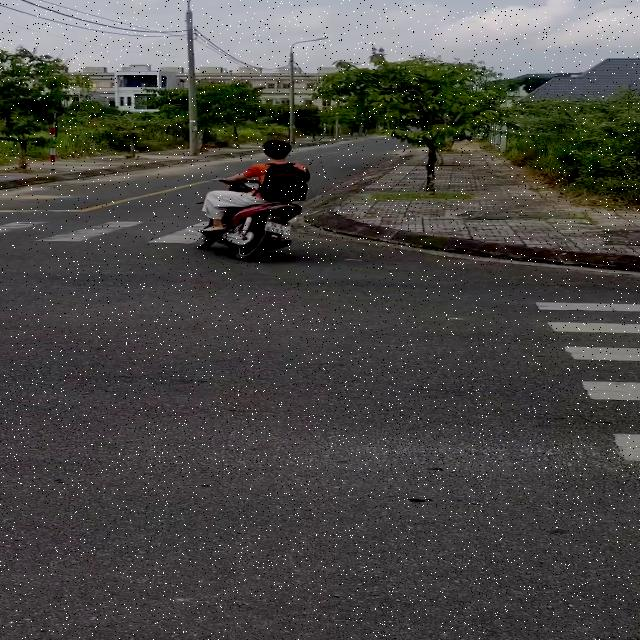no_helmet: (258, 140, 292, 173)
